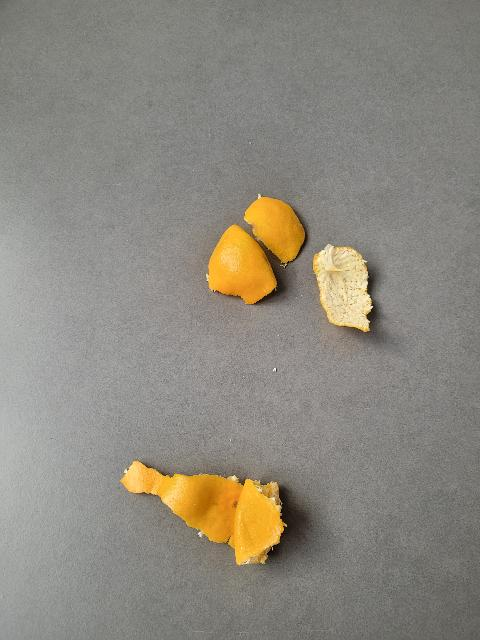Organik: (117, 459, 288, 564), (191, 170, 310, 306), (310, 238, 374, 345)
